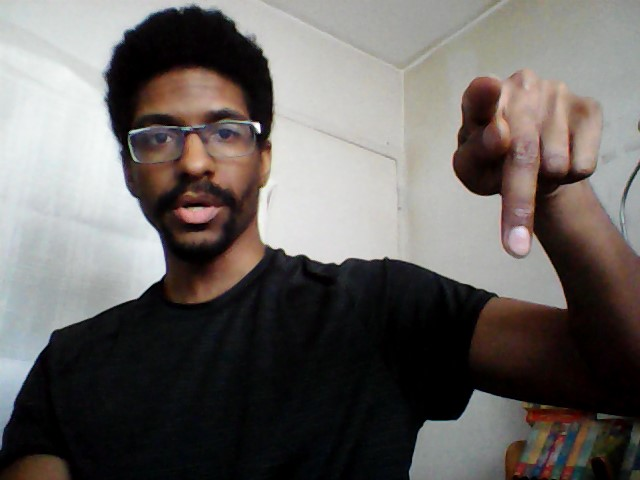p: (445, 64, 608, 262)
